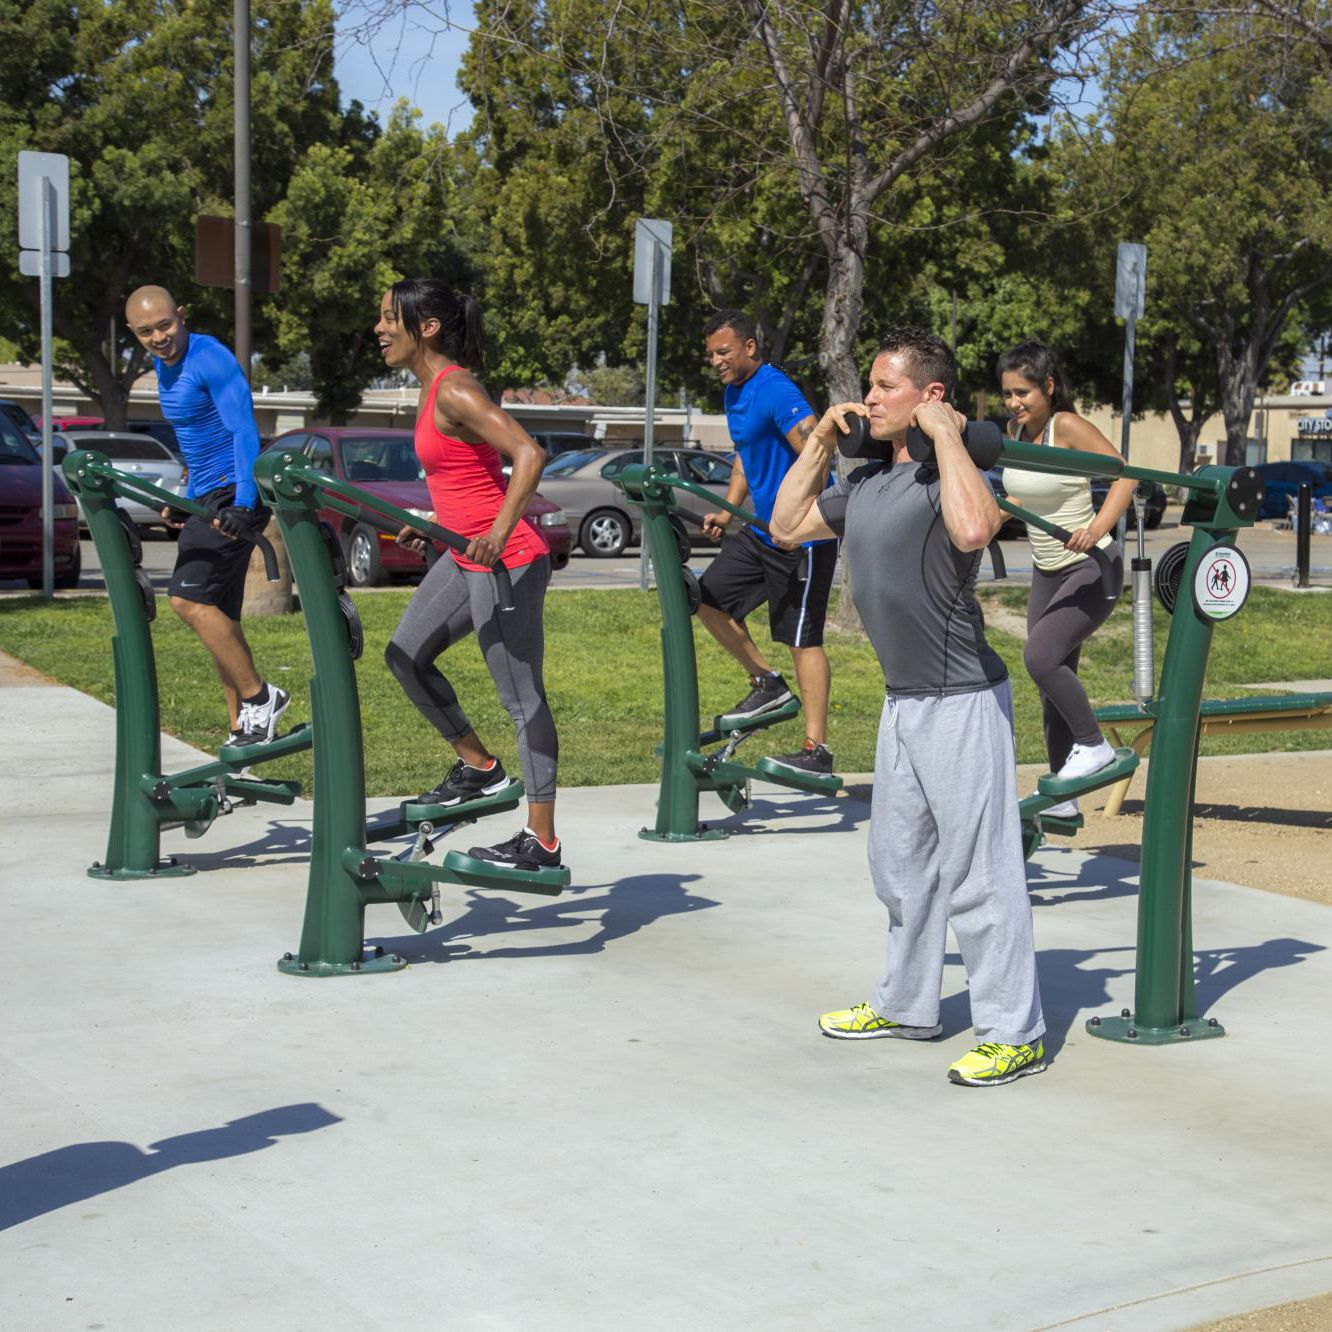Person: (757, 316, 1078, 1102), (345, 242, 607, 911), (104, 256, 312, 775), (659, 299, 857, 816), (971, 340, 1145, 878)
